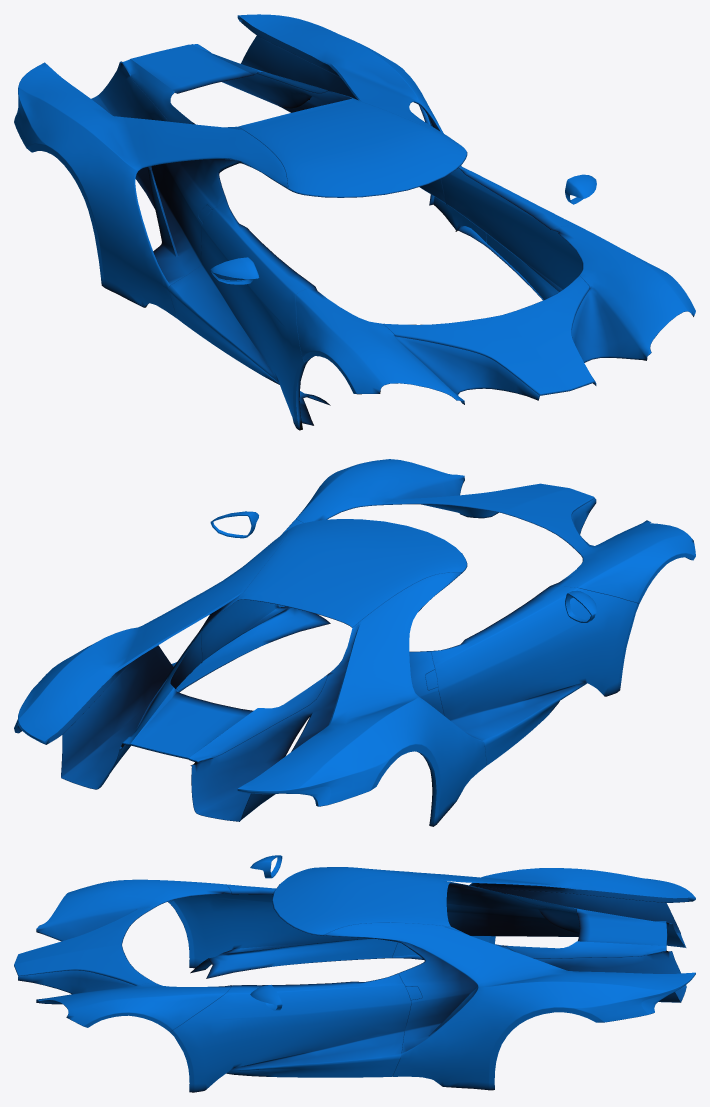
Rendered from FordGT_Chassis_Duco.fbx.
The picture shows the model from 3 angles, top to bottom: view 1: azimuth 30°, elevation 25°; view 2: azimuth 150°, elevation 25°; view 3: azimuth 270°, elevation 25°; orthographic projection. The views are drawn at different scales.
Parts seen in each view (by area): view 1: FordGT_Chassis_Duco; view 2: FordGT_Chassis_Duco; view 3: FordGT_Chassis_Duco.
Part boxes in pixels (left/top/right/bottom): FordGT_Chassis_Duco: left=14, top=14, right=695, bottom=430; FordGT_Chassis_Duco: left=14, top=459, right=695, bottom=826; FordGT_Chassis_Duco: left=14, top=855, right=695, bottom=1092.
Size of the model in its own units: 214 by 92.59 by 417.
